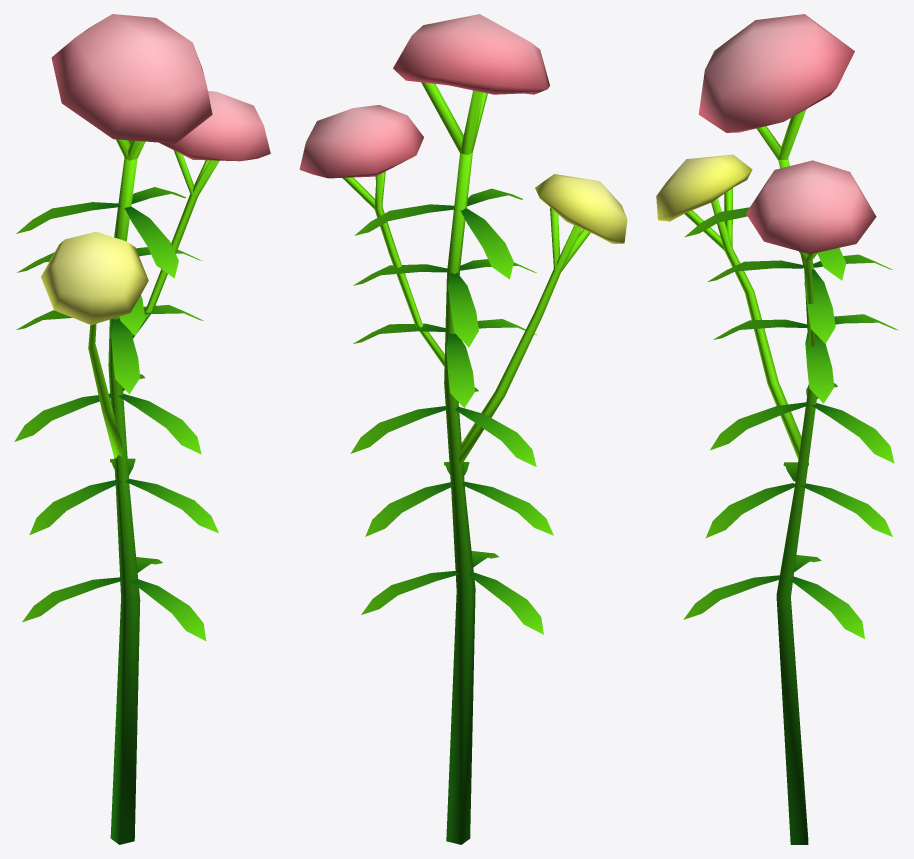
The model's file is SwampMilkweed.fbx.
3 renders of one model, left to right at view 1: azimuth 30°, elevation 25°; view 2: azimuth 150°, elevation 25°; view 3: azimuth 270°, elevation 25°, orthographic.
Parts seen in each view (by area): view 1: Plane.056; view 2: Plane.056; view 3: Plane.056.
Boxes of the visible parts, <box> form: Plane.056: <box>14,14,270,844</box>; Plane.056: <box>299,14,627,844</box>; Plane.056: <box>656,14,898,844</box>.
Bounding box in the file's own units: 37.64 × 111 × 30.09.
